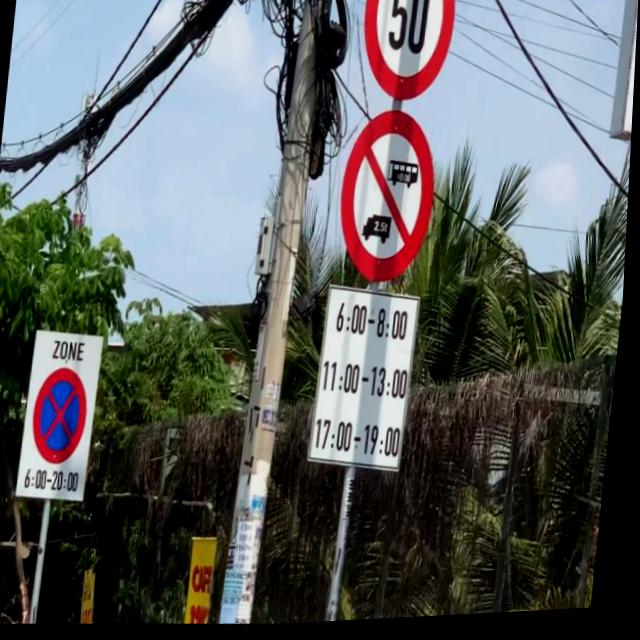Cam dung xe va do xe: (30, 362, 99, 472)
